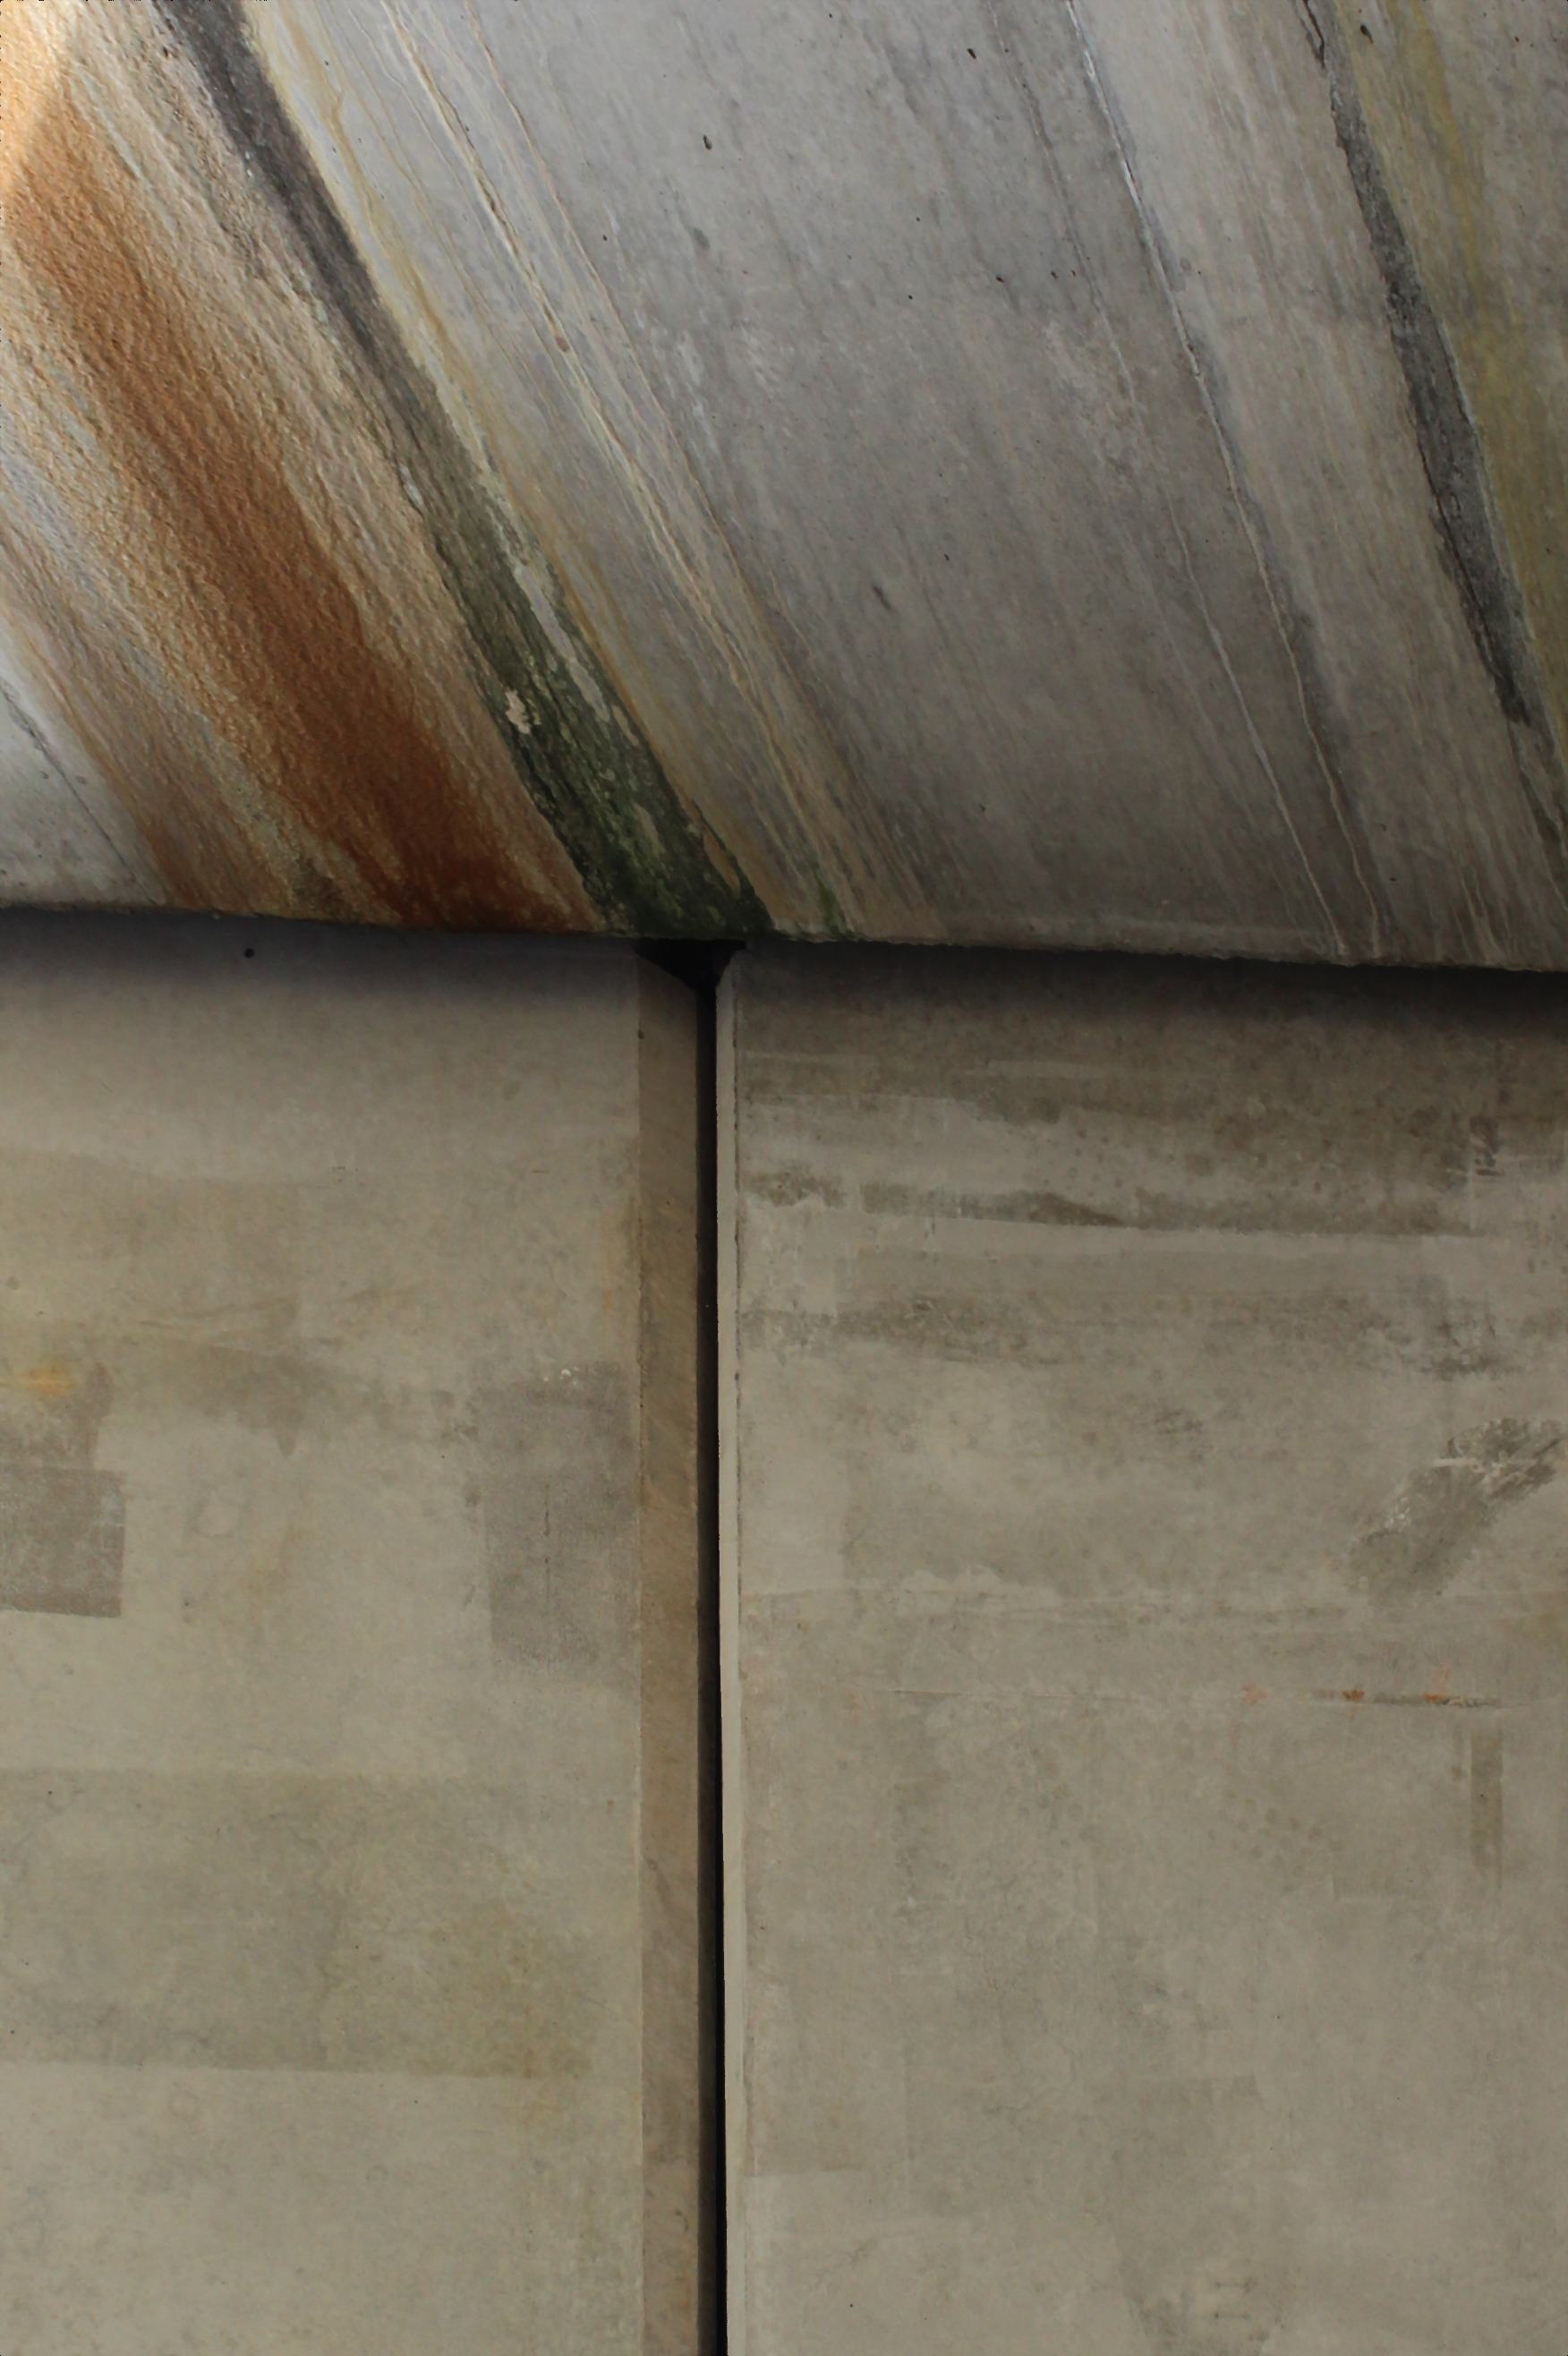Corrosion: (2, 2, 955, 954)
Spalling: (1288, 2, 1552, 735)
